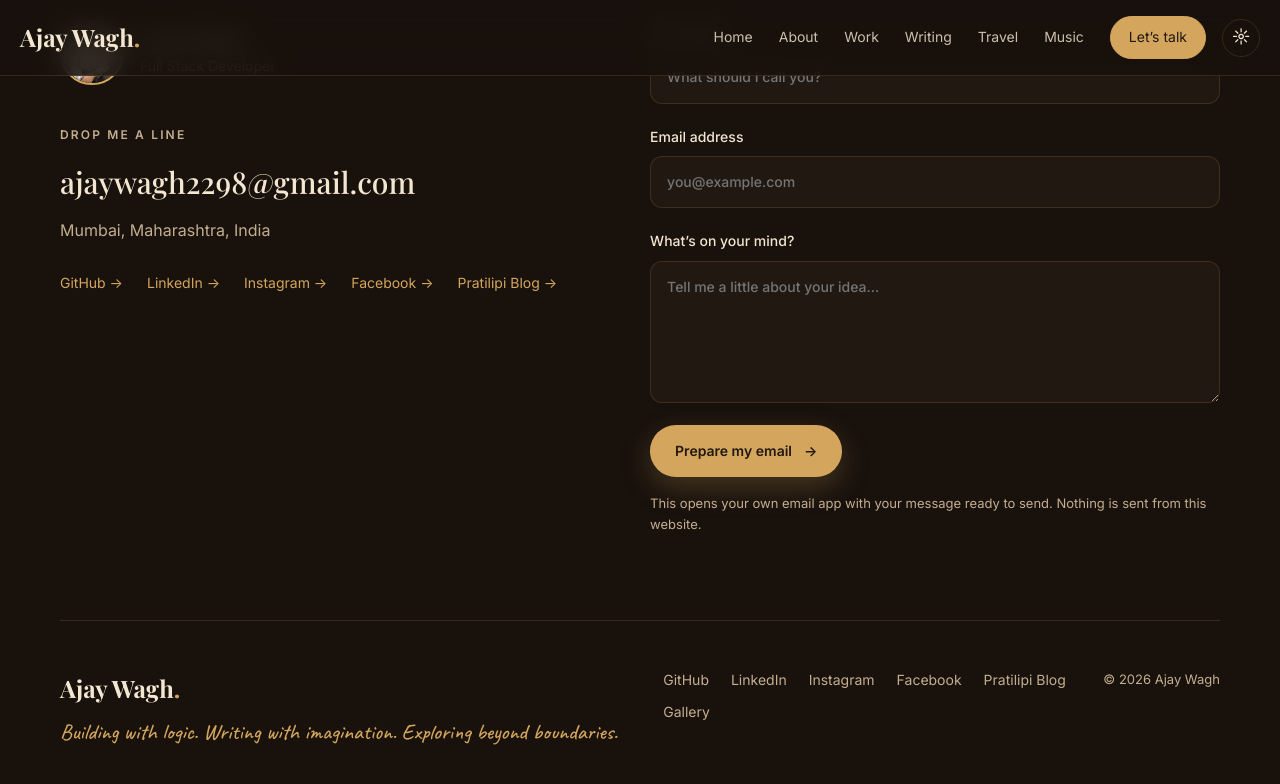
Test: the contact form validates before preparing an email
This screenshot has width=1280, height=784.
(page scrolled)
Click the button "Prepare my email →" at point(746, 451), box [650,425,842,477]
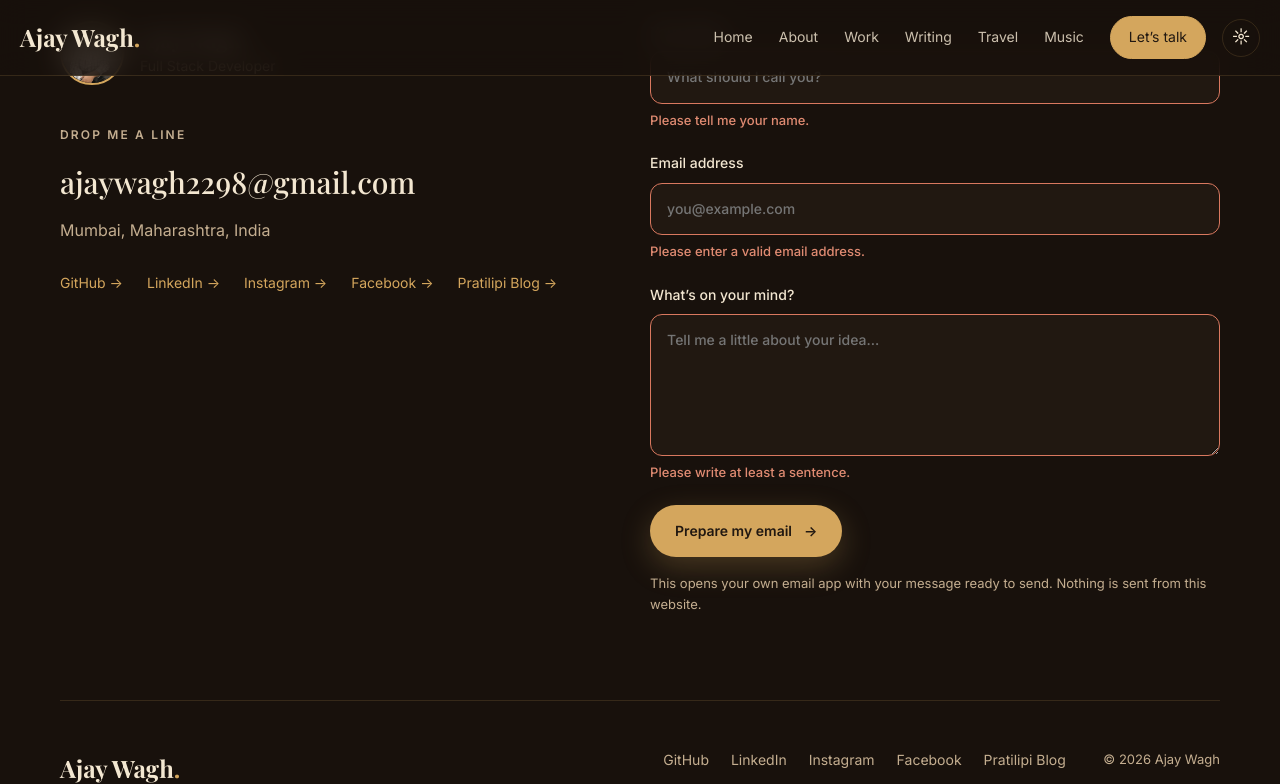
Expected: the text "Nothing is sent from this website" is shown, [650,576,1206,612]
Now the text "Please enter a valid email address." is shown, box [650,243,865,259]
